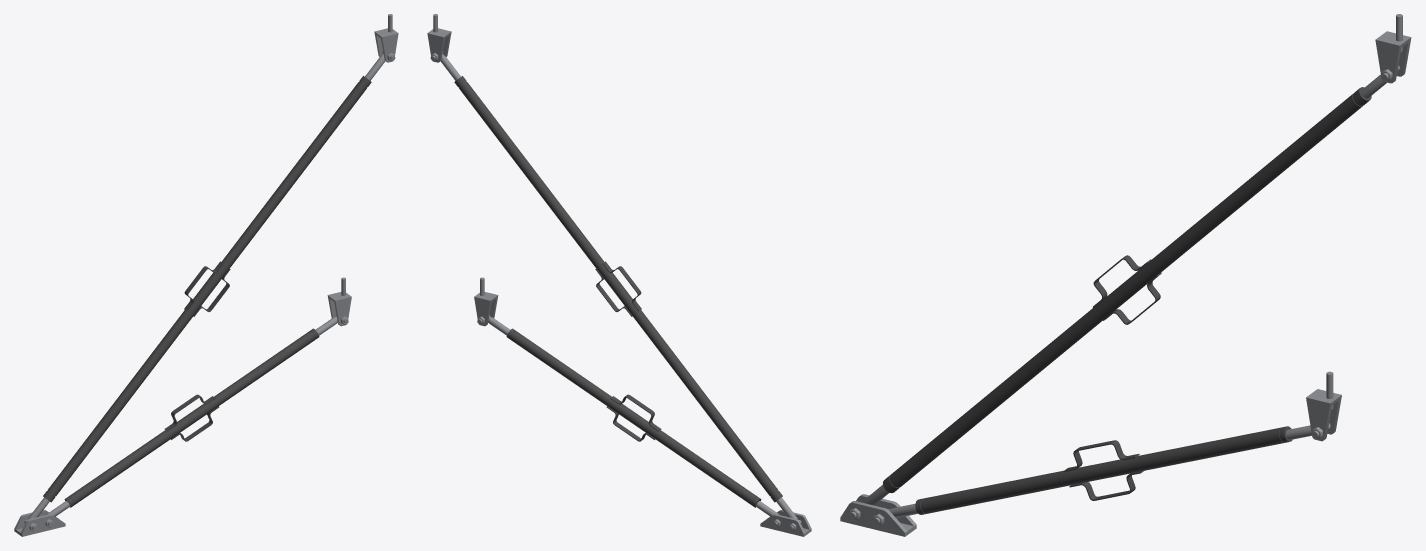
The model's file is Two-level-strut.glb.
The picture shows the model from 3 angles, left to right: view 1: azimuth 30°, elevation 25°; view 2: azimuth 150°, elevation 25°; view 3: azimuth 330°, elevation 25°; orthographic projection. The views are drawn at different scales.
Parts seen in each view (by area): view 1: Two-level strut; view 2: Two-level strut; view 3: Two-level strut.
Boxes of the visible parts, <box> form: Two-level strut: <box>14,14,398,536</box>; Two-level strut: <box>427,14,811,536</box>; Two-level strut: <box>840,14,1411,536</box>.
Bounding box in the file's own units: 1.95 × 2.12 × 0.1166.
1 material, 1 textured.
